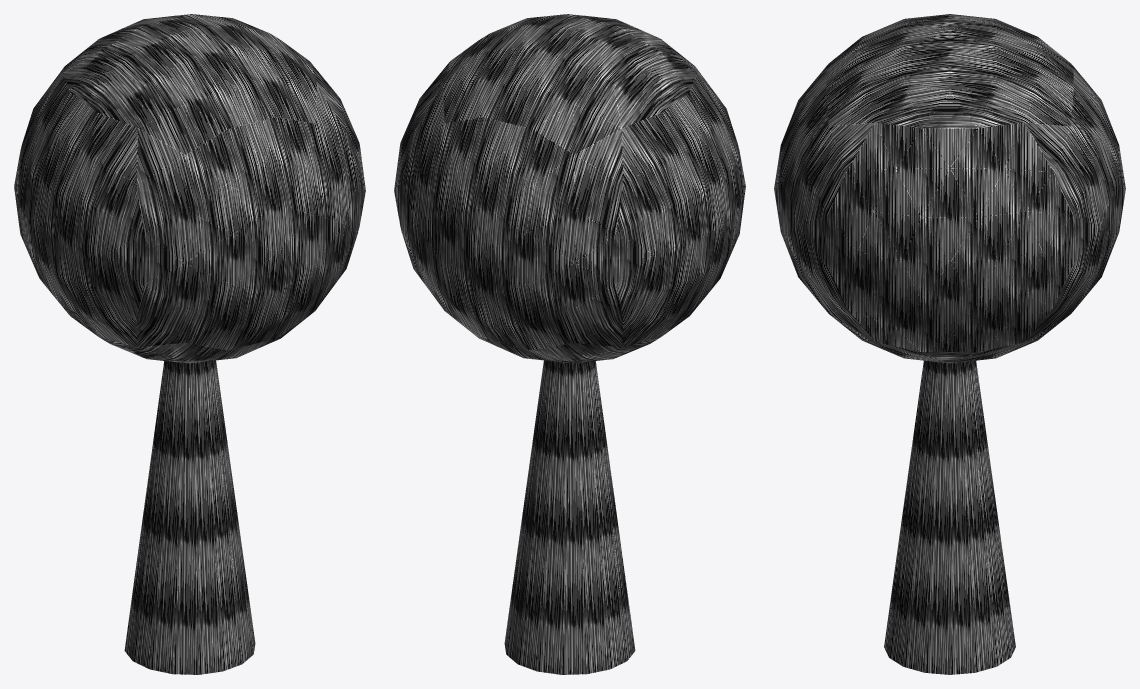
File: Tree.fbx
3 views of the same model, side by side, from view 1: azimuth 30°, elevation 25°; view 2: azimuth 150°, elevation 25°; view 3: azimuth 270°, elevation 25° (orthographic).
Parts seen in each view (by area): view 1: Sphere, Cylinder; view 2: Sphere, Cylinder; view 3: Sphere, Cylinder.
Part boxes in pixels (box(x1,y1,x2,y2)): Sphere: box(14, 14, 365, 363); Cylinder: box(124, 360, 255, 674); Sphere: box(394, 14, 745, 363); Cylinder: box(504, 360, 635, 674); Sphere: box(774, 14, 1125, 363); Cylinder: box(884, 360, 1015, 674).
Size of the model in its own units: 400 by 775 by 400.
2 materials, 2 textured.
